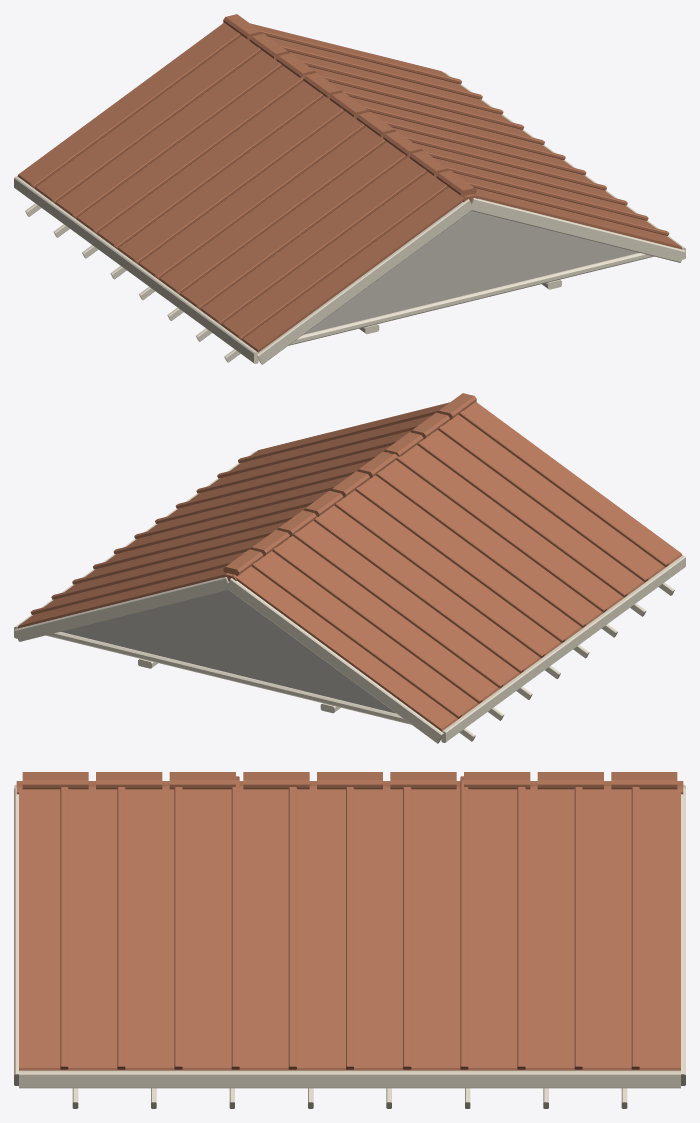
Rendered from wall_roof.glb.
3 renders of one model, top to bottom at view 1: azimuth 30°, elevation 25°; view 2: azimuth 150°, elevation 25°; view 3: azimuth 270°, elevation 25°, orthographic. The views are drawn at different scales.
Visible parts, largest first — view 1: wall_roof; view 2: wall_roof; view 3: wall_roof.
Boxes of the visible parts, x1=… form: wall_roof: x1=14, y1=14, x2=685, y2=364; wall_roof: x1=14, y1=393, x2=685, y2=743; wall_roof: x1=14, y1=772, x2=685, y2=1108.
Size of the model in its own units: 14.03 by 3.97 by 13.17.
